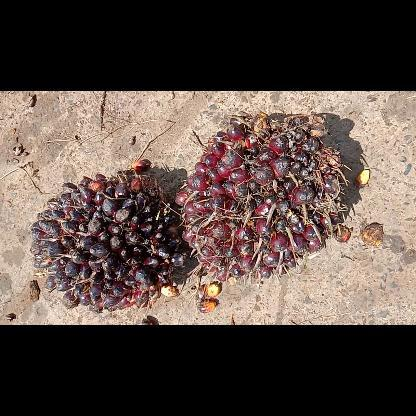Kurang masak: (174, 108, 346, 286), (29, 157, 188, 315)
